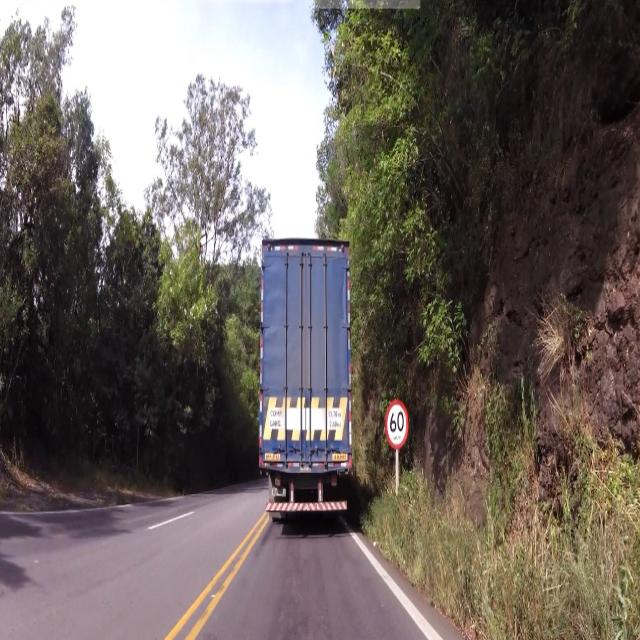R-19: (382, 392, 410, 454)
